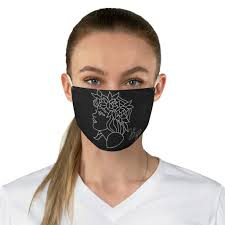with-mask: (61, 33, 174, 153)
